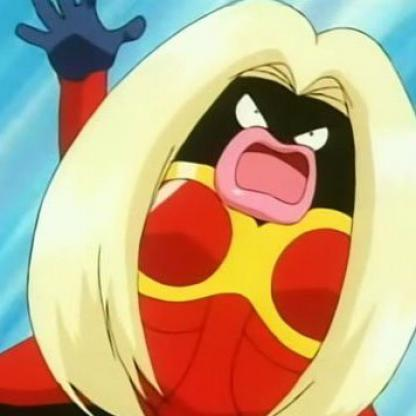Jynx: (10, 1, 416, 416)
